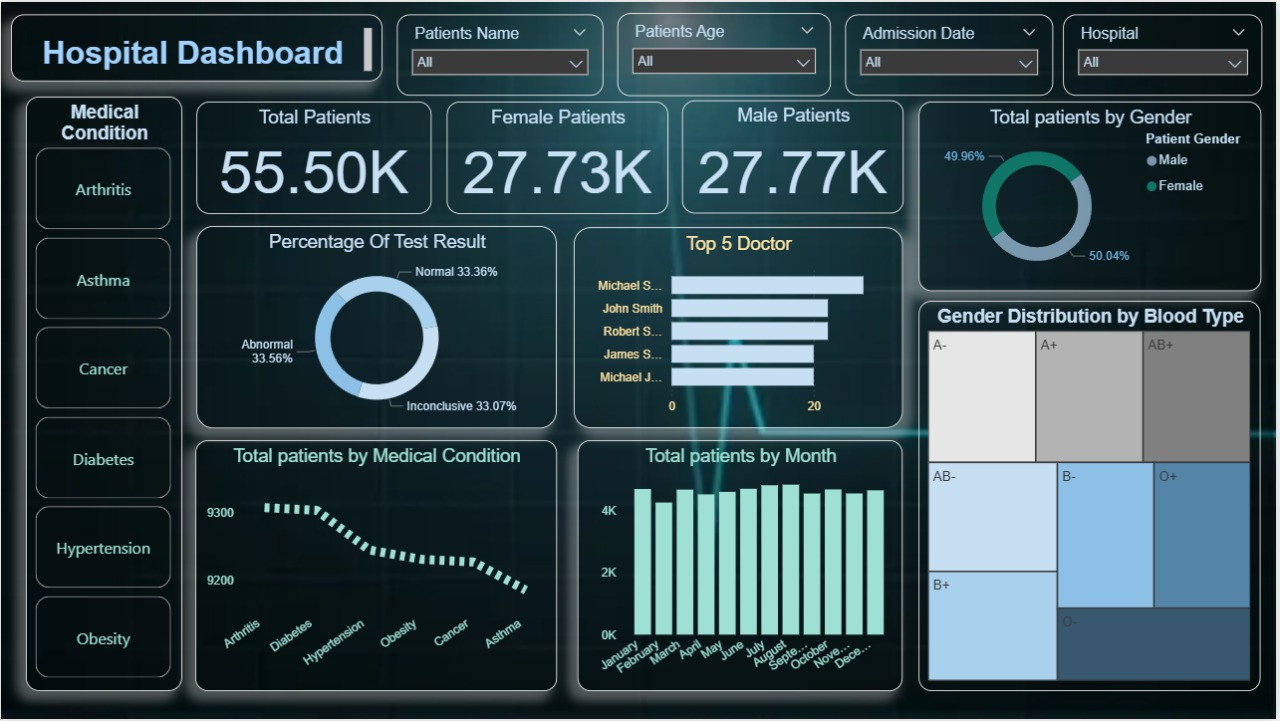

This screenshot's page, from the dashboard's own definition file:
{"tool":"powerbi","page":{"name":"Page 3","canvas":[1280,720],"ordinal":0},"visuals":[{"type":"textbox","box":[10,12.9,372.9,67.1],"z":0},{"type":"slicer","fields":{"Values":["healthcare_dataset.Name"]},"box":[397.1,12.9,207.1,81.4],"z":1000},{"type":"slicer","fields":{"Values":["healthcare_dataset.Age"]},"box":[618.6,11.4,214.3,82.9],"z":2000},{"type":"slicer","fields":{"Values":["healthcare_dataset.Date of Admission.Variation.Date Hierarchy.Month"]},"box":[847.1,12.9,208.6,81.4],"z":3000},{"type":"slicer","fields":{"Values":["healthcare_dataset.Hospital"]},"box":[1065.7,12.9,200,81.4],"z":4000},{"type":"lineChart","title":"Total patients by Medical Condition","fields":{"Category":["healthcare_dataset.Medical Condition"],"Y":["measures table.total patients"]},"box":[195,440,363.3,251.7],"z":5000},{"type":"pieChart","title":"Total patients by Gender","fields":{"Y":["measures table.total patients"],"Category":["healthcare_dataset.Gender"]},"box":[921.4,100,344.3,190],"z":6000},{"type":"clusteredColumnChart","title":"Total patients by Month","fields":{"Category":["healthcare_dataset.Date of Admission.Variation.Date Hierarchy.Month"],"Y":["measures table.total patients"]},"box":[578.3,440,326.7,251.7],"z":7000},{"type":"donutChart","title":"Percentage Of Test Result","fields":{"Category":["healthcare_dataset.Test Results"],"Y":["measures table.total patients"]},"box":[196.7,225,361.7,203.3],"z":8000},{"type":"card","title":"Total Patients","fields":{"Values":["measures table.total patients"]},"box":[196.2,100.2,236,112.5],"z":9000},{"type":"card","title":"Male Patients","fields":{"Values":["measures table.Male Patients"]},"box":[683.4,98.8,222.3,113.9],"z":10000},{"type":"card","title":"Female Patients","fields":{"Values":["measures table.Female Patients"]},"box":[447.3,100.2,222.3,112.5],"z":11000},{"type":"advancedSlicerVisual","fields":{"Values":["healthcare_dataset.Medical Condition"]},"box":[25,95,156.7,596.7],"z":12000},{"type":"barChart","title":"Top 5 Doctor","fields":{"Category":["healthcare_dataset.Doctor"],"Y":["measures table.total patients"]},"box":[575,226.7,330,201.7],"z":13000},{"type":"treemap","title":"Gender Distribution by Blood Type","fields":{"Group":["healthcare_dataset.Blood Type"],"Values":["healthcare_dataset.Gender"]},"box":[921.7,300,343.3,391.7],"z":14000}]}

Visuals, with their boxes in screenshot pixels (x1, y1, x2, y2), scaled from the page's 1280x720 canvas onto the 1280x721 screenshot:
textbox: 10:13:383:80
slicer - healthcare_dataset.Name: 397:13:604:94
slicer - healthcare_dataset.Age: 619:11:833:94
slicer - healthcare_dataset.Date of Admission.Variation.Date Hierarchy.Month: 847:13:1056:94
slicer - healthcare_dataset.Hospital: 1066:13:1266:94
"Total patients by Medical Condition" lineChart: 195:441:558:693
"Total patients by Gender" pieChart: 921:100:1266:290
"Total patients by Month" clusteredColumnChart: 578:441:905:693
"Percentage Of Test Result" donutChart: 197:225:558:429
"Total Patients" card: 196:100:432:213
"Male Patients" card: 683:99:906:213
"Female Patients" card: 447:100:670:213
advancedSlicerVisual - healthcare_dataset.Medical Condition: 25:95:182:693
"Top 5 Doctor" barChart: 575:227:905:429
"Gender Distribution by Blood Type" treemap: 922:300:1265:693
